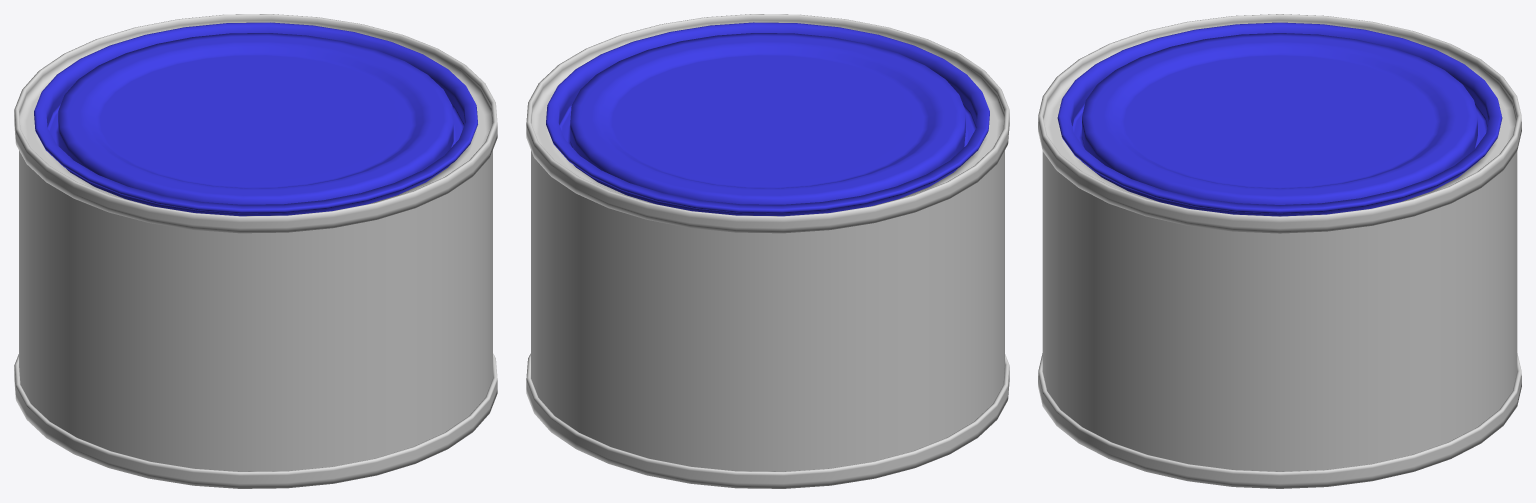
Rendered from can-paint-tin-short-2.glb.
3 renders of one model, left to right at view 1: azimuth 30°, elevation 25°; view 2: azimuth 150°, elevation 25°; view 3: azimuth 270°, elevation 25°, orthographic.
Parts seen in each view (by area): view 1: Default.001, Default; view 2: Default.001, Default; view 3: Default.001, Default.
Boxes of the visible parts, x1,y1,x2,y2 form: Default.001: (14, 14, 497, 488); Default: (34, 22, 477, 216); Default.001: (526, 14, 1009, 488); Default: (546, 22, 989, 216); Default.001: (1038, 14, 1521, 488); Default: (1057, 22, 1502, 216).
Bounding box in the file's own units: 0.1082 × 0.067 × 0.1082.
